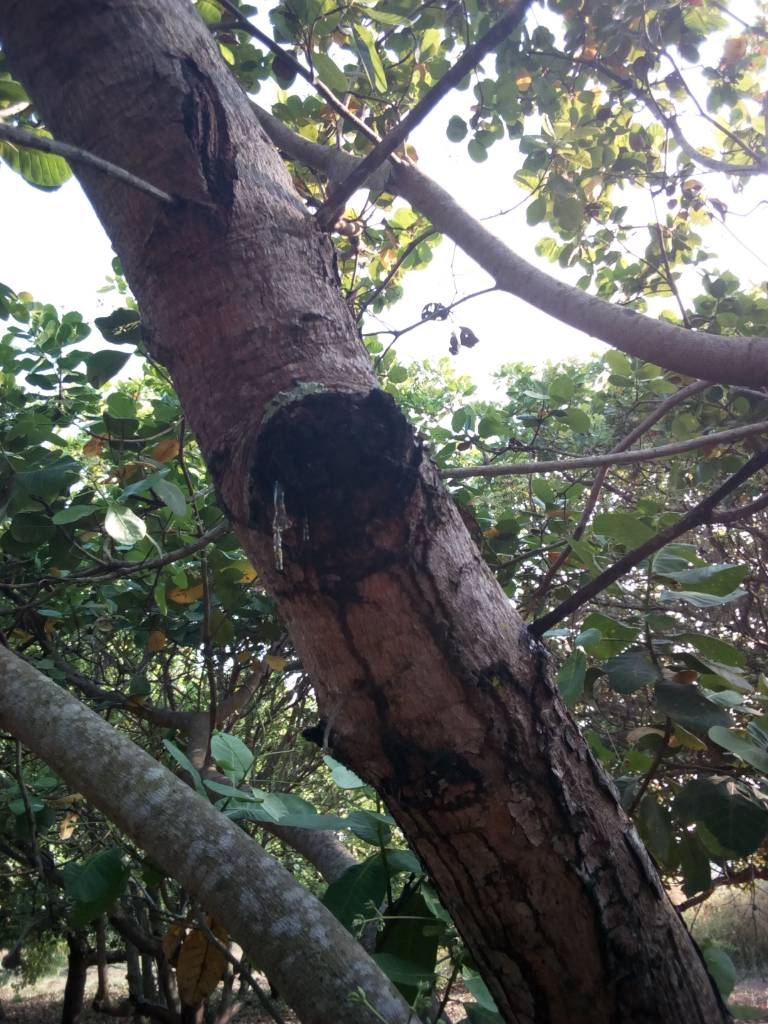Termites: (394, 586, 611, 919)
